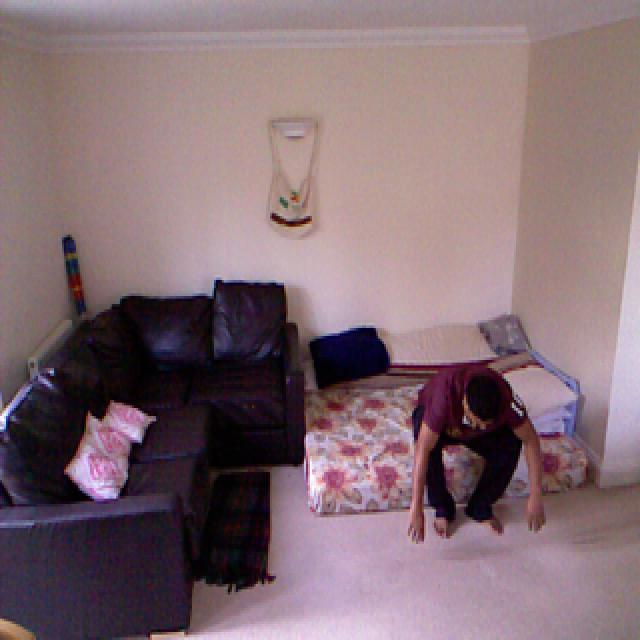NotFall: (358, 336, 564, 558)
